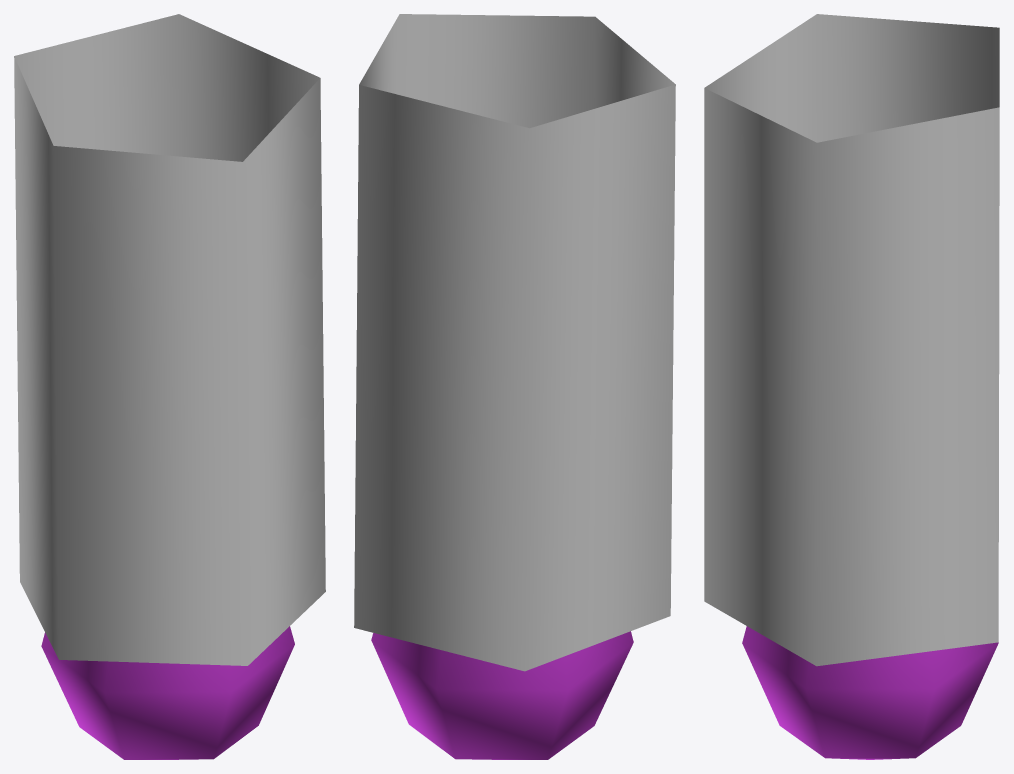
File: middle_proximal.gltf
3 views of the same model, side by side, from view 1: azimuth 30°, elevation 25°; view 2: azimuth 150°, elevation 25°; view 3: azimuth 270°, elevation 25° (orthographic). The views are drawn at different scales.
Parts seen in each view (by area): view 1: LEFT_MIDDLE_PROXIMAL; view 2: LEFT_MIDDLE_PROXIMAL; view 3: LEFT_MIDDLE_PROXIMAL.
Boxes of the visible parts, <box> form: LEFT_MIDDLE_PROXIMAL: <box>14,14,325,759</box>; LEFT_MIDDLE_PROXIMAL: <box>354,14,675,759</box>; LEFT_MIDDLE_PROXIMAL: <box>704,14,999,759</box>.
Bounding box in the file's own units: 0.0261 × 0.0625 × 0.0243.
